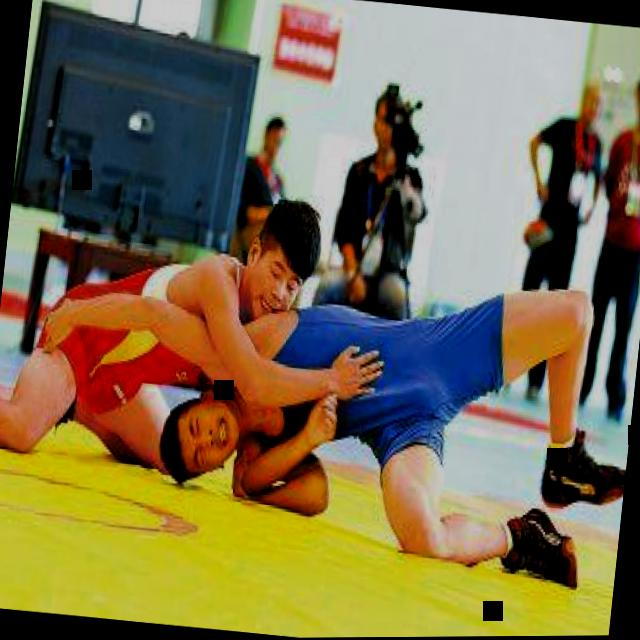Fall-Detected: (0, 168, 332, 512)
